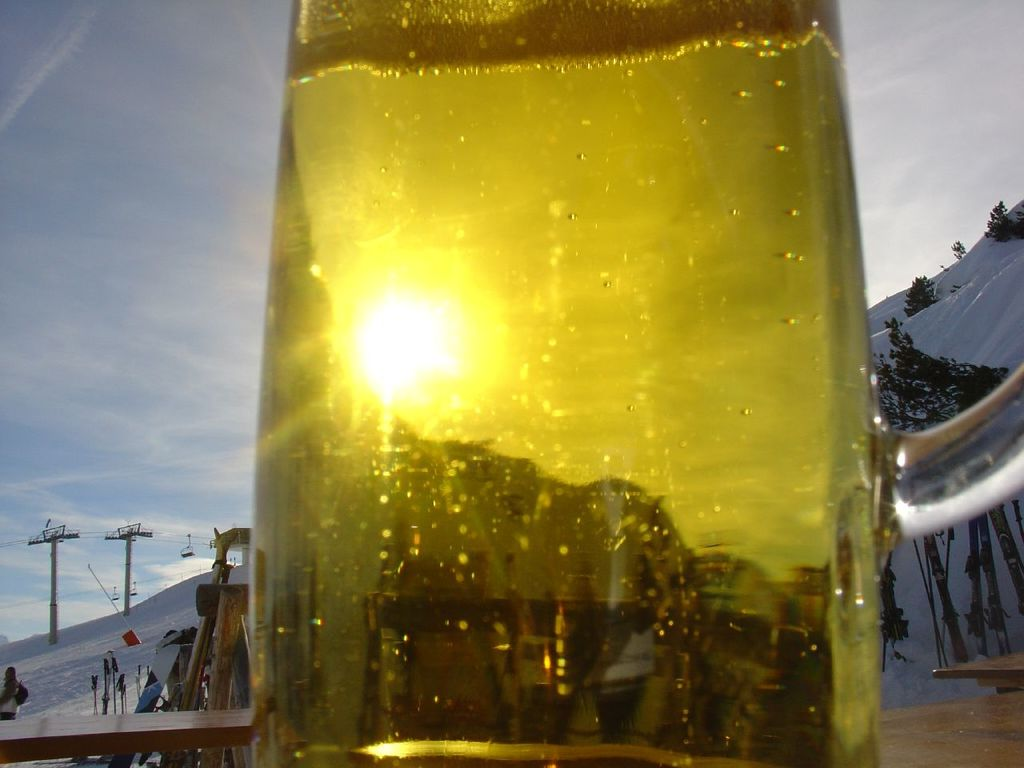Beer: (252, 0, 889, 767)
